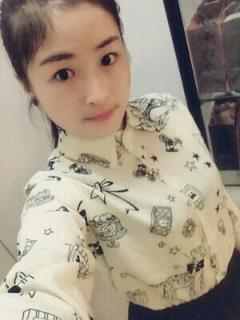long sleeve top: (0, 92, 239, 319)
skirt: (128, 247, 239, 319)
